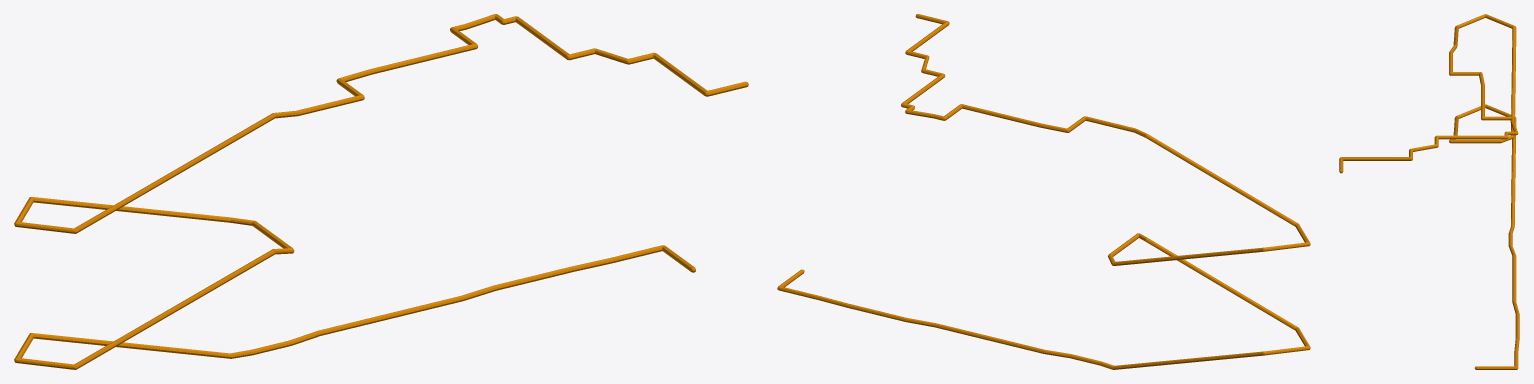
The picture shows the model from 3 angles, left to right: view 1: azimuth 30°, elevation 25°; view 2: azimuth 150°, elevation 25°; view 3: azimuth 270°, elevation 25°; orthographic projection. The views are drawn at different scales.
Bounding box in the file's own units: 2595 × 1020 × 905.
